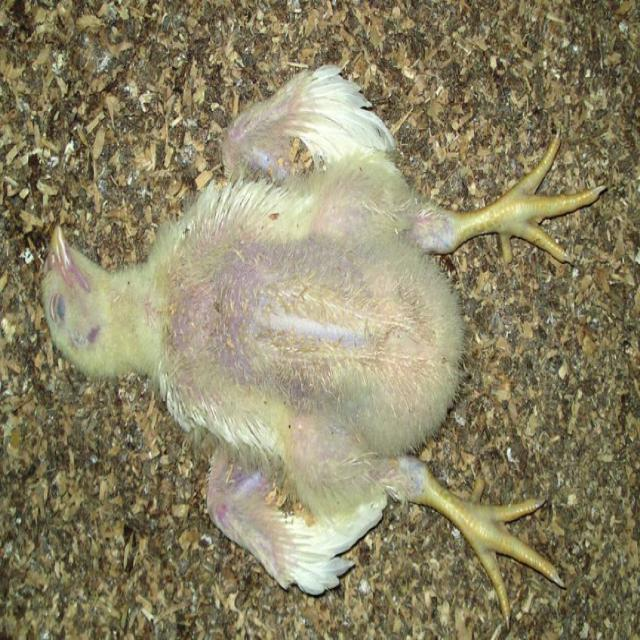Unhealthy: (37, 65, 607, 619)
